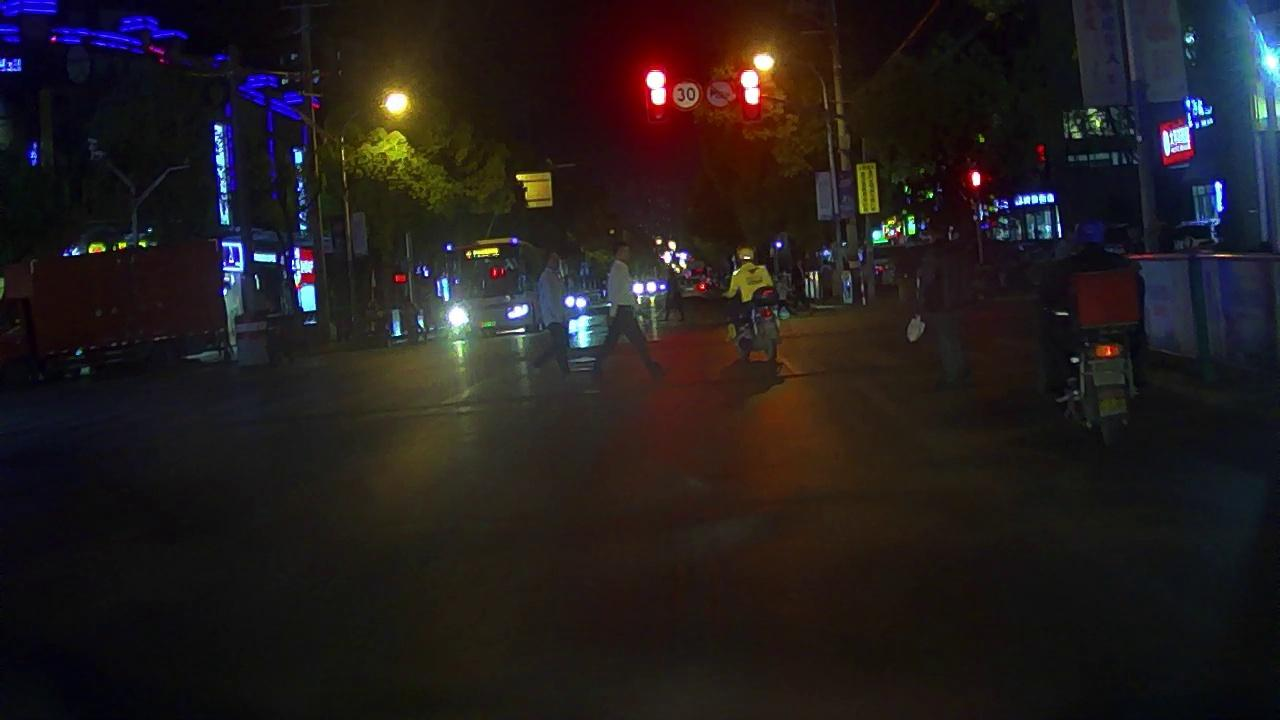traffic_light: (640, 62, 672, 115), (382, 74, 413, 124), (735, 65, 767, 112)
